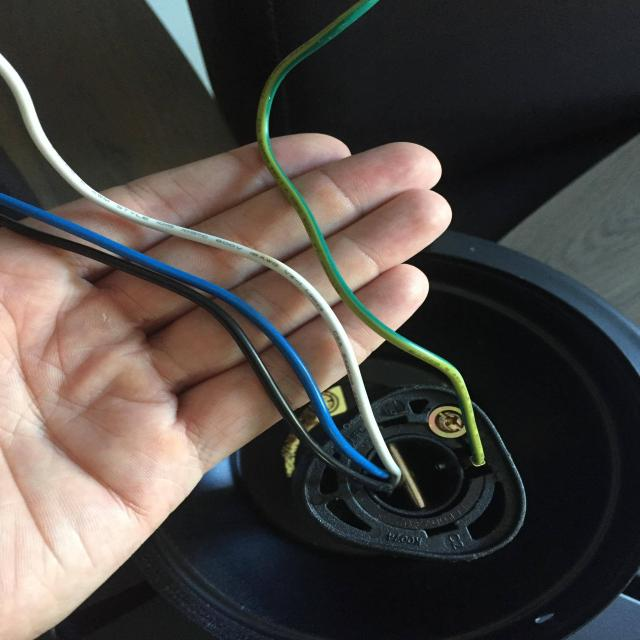electronics: (135, 234, 639, 640), (0, 55, 401, 485), (256, 0, 484, 466), (256, 0, 484, 465), (0, 194, 332, 427), (287, 385, 525, 561), (363, 345, 441, 387), (368, 427, 401, 481), (342, 414, 374, 457), (255, 428, 283, 450), (359, 403, 372, 423), (239, 447, 251, 461), (327, 445, 335, 454), (237, 451, 242, 459), (281, 519, 286, 525), (262, 450, 265, 455), (297, 527, 300, 531), (274, 447, 277, 450), (349, 375, 350, 380), (343, 459, 345, 461), (458, 409, 459, 413), (347, 371, 348, 374), (387, 487, 389, 488), (298, 425, 299, 427), (252, 443, 252, 443), (343, 457, 343, 457), (352, 414, 352, 414)
fans: (0, 55, 401, 483), (0, 194, 388, 479), (0, 213, 392, 492), (257, 0, 484, 465), (391, 478, 397, 485), (385, 445, 385, 446)
